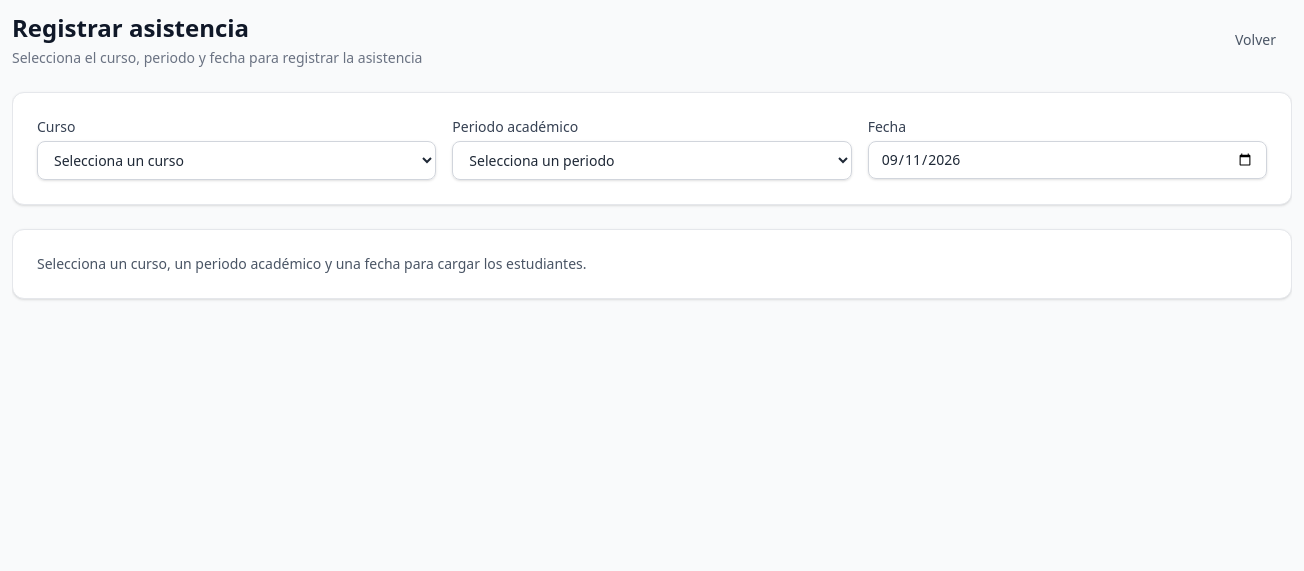
Test case: AttendanceRegisterPage › shows a warning when the selected period is closed
The image size is (1304, 571).
Select "Décimo A" in the dropdown labelled "Curso" at (237, 160), box [37, 141, 436, 180]
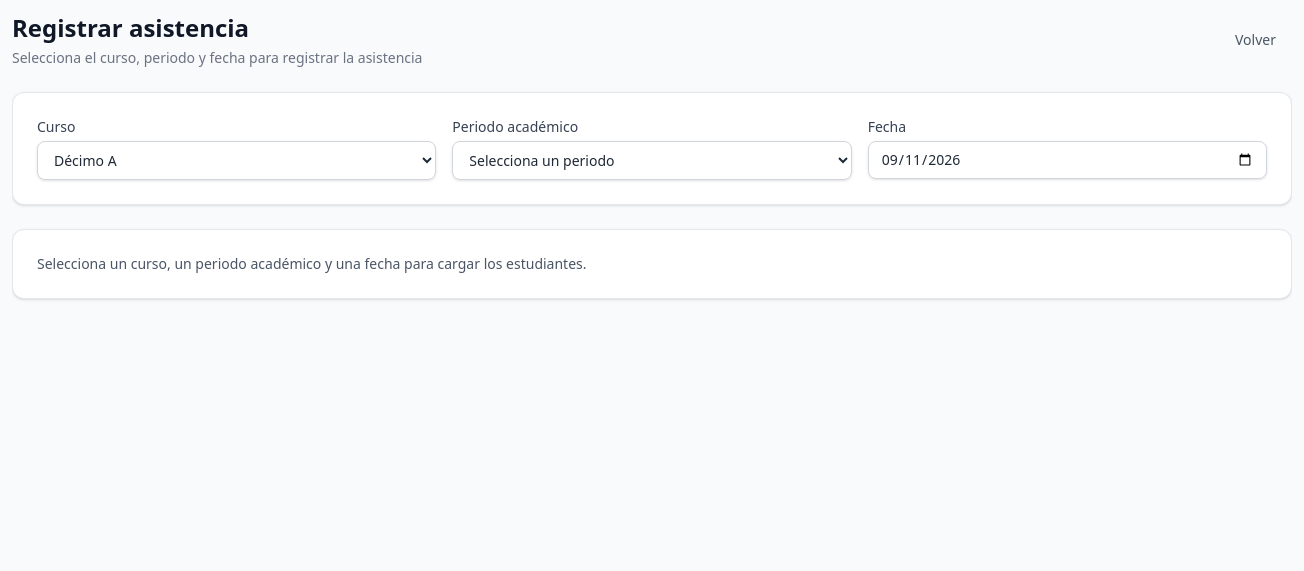
Select "2026-P1 (Cerrado)" in the dropdown labelled "Periodo académico" at (652, 160), box [452, 141, 852, 180]
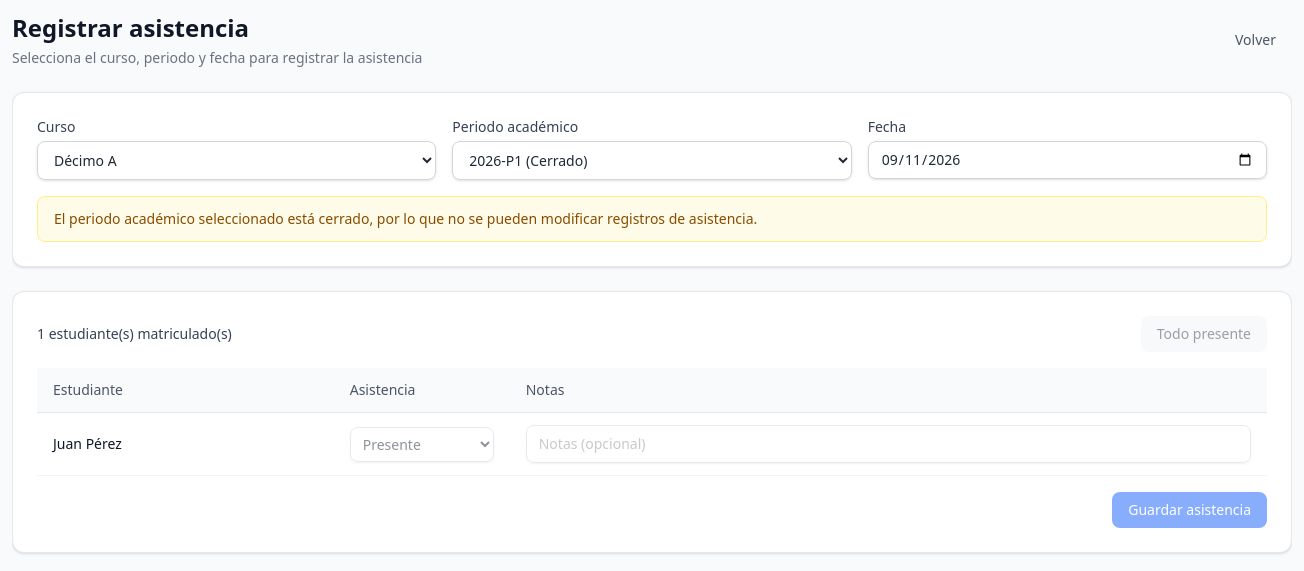
Expected: the text "está cerrado" is shown, [54, 209, 757, 228]
